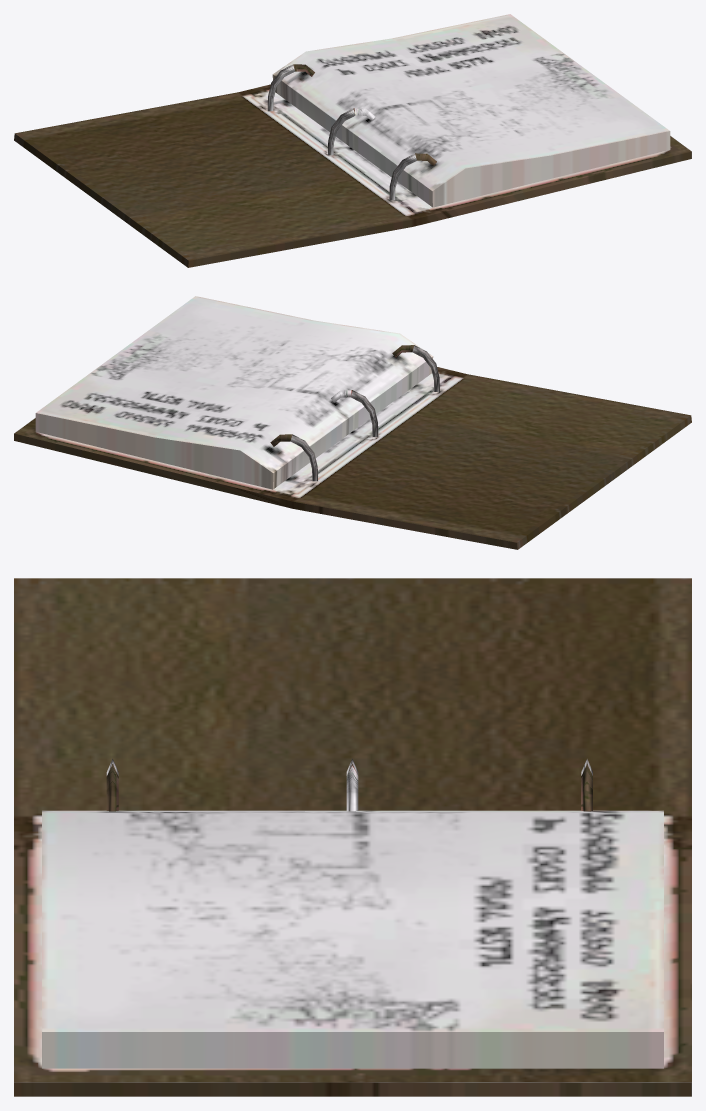
File: Manu02.glb
3 views of the same model, one above another, from view 1: azimuth 30°, elevation 25°; view 2: azimuth 150°, elevation 25°; view 3: azimuth 270°, elevation 25° (orthographic). The views are drawn at different scales.
Visible parts, largest first — view 1: _Manu02; view 2: _Manu02; view 3: _Manu02.
Boxes of the visible parts, <box> form: _Manu02: <box>14,14,691,267</box>; _Manu02: <box>14,296,691,549</box>; _Manu02: <box>14,578,691,1096</box>.
Size of the model in its own units: 0.5003 by 0.0458 by 0.2995.
2 materials, 2 textured.
